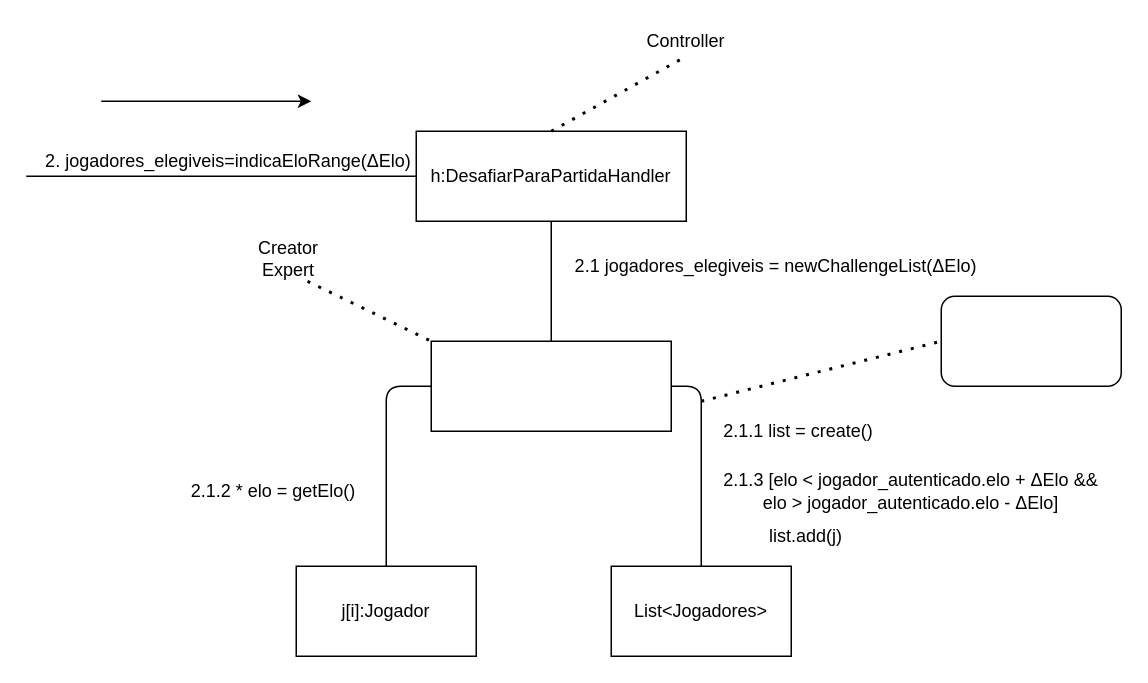
Image size: 1148x683. Some labels were removed from this diagram. Each missing label, with the centre of its shape:
:CatálogoDeJogadores: the point at 550,385
list é o objeto retornado pela função newChallengeList: the point at 1030,340
